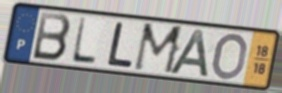A: (167, 27, 211, 80)
B: (30, 10, 73, 63)
L: (69, 16, 99, 67), (105, 20, 135, 70)
M: (131, 21, 187, 77)
O: (209, 31, 249, 82)
